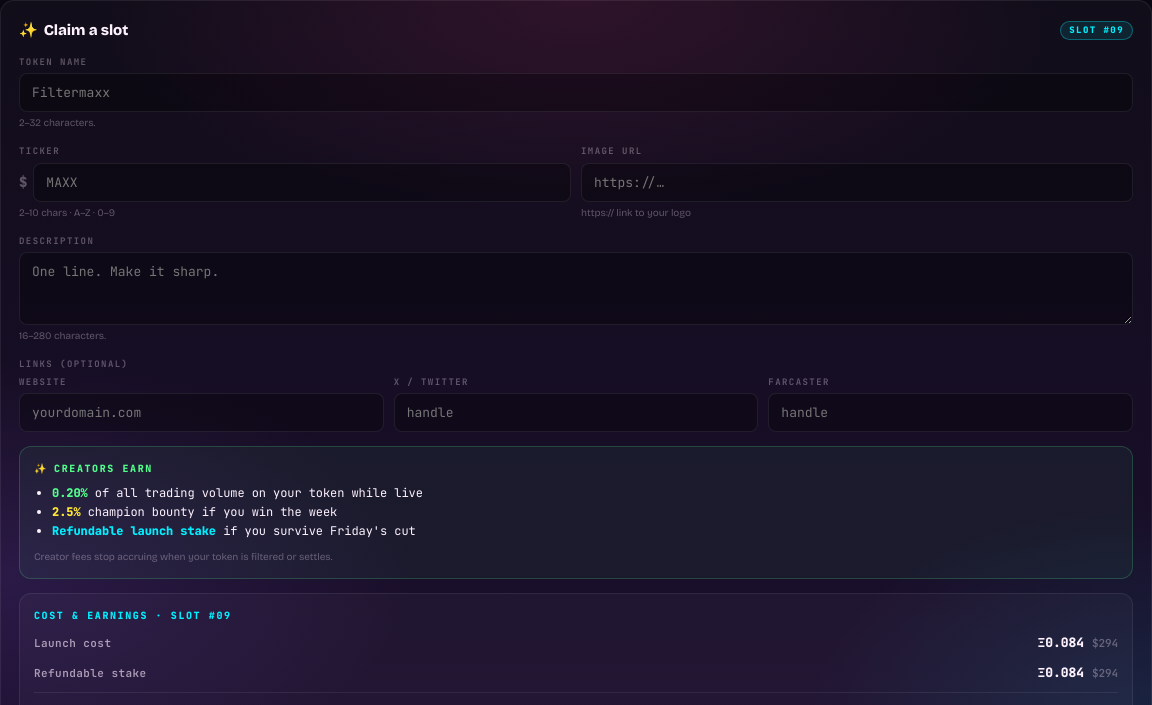
Test: LaunchForm › rejects ticker collisions against the cohort
Type "FILTER" into the field with placeholder "MAXX" at [302, 182], box [33,162,571,202]
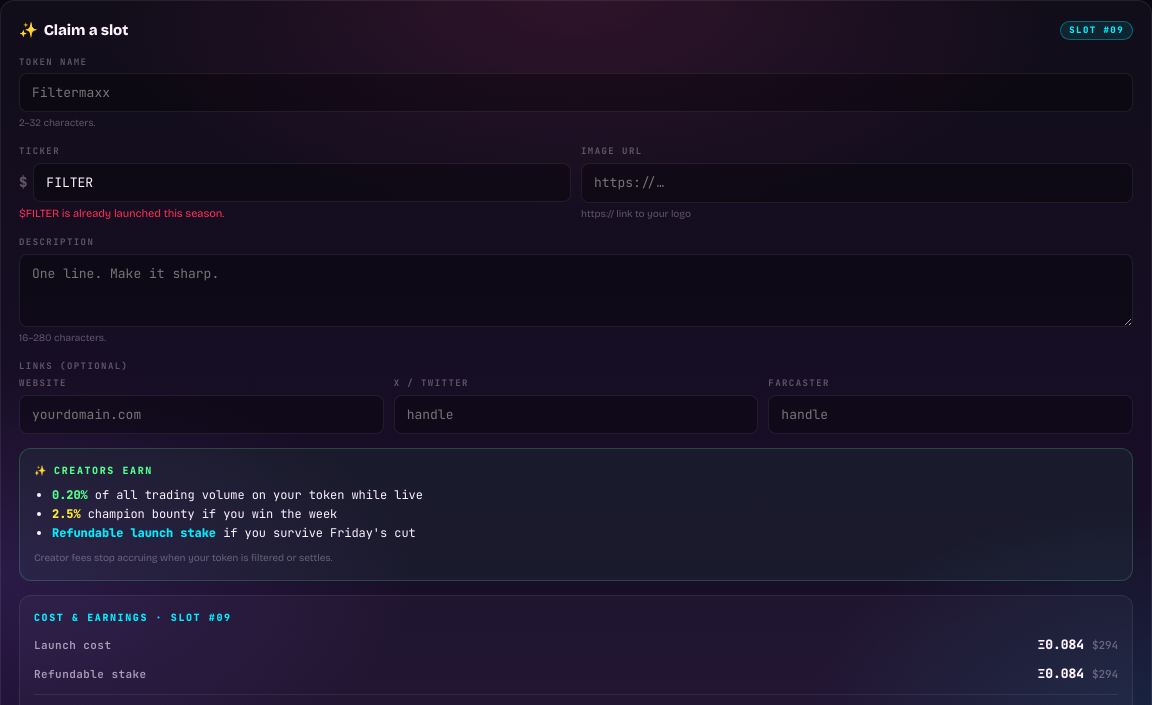
Check: the text "$FILTER is already launched this season." is shown, box [19,206,224,220]
